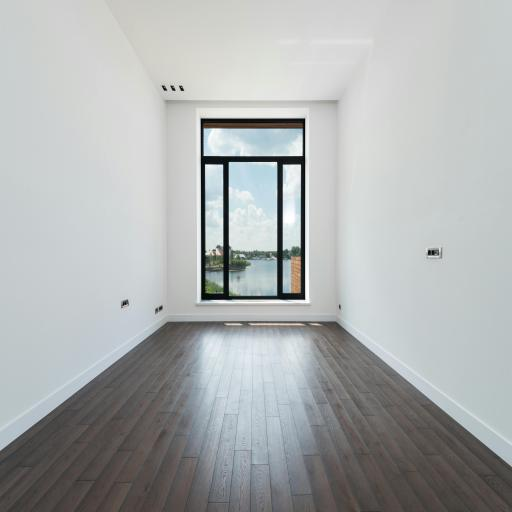wall: (338, 0, 511, 466), (0, 0, 167, 452), (166, 100, 338, 322)
